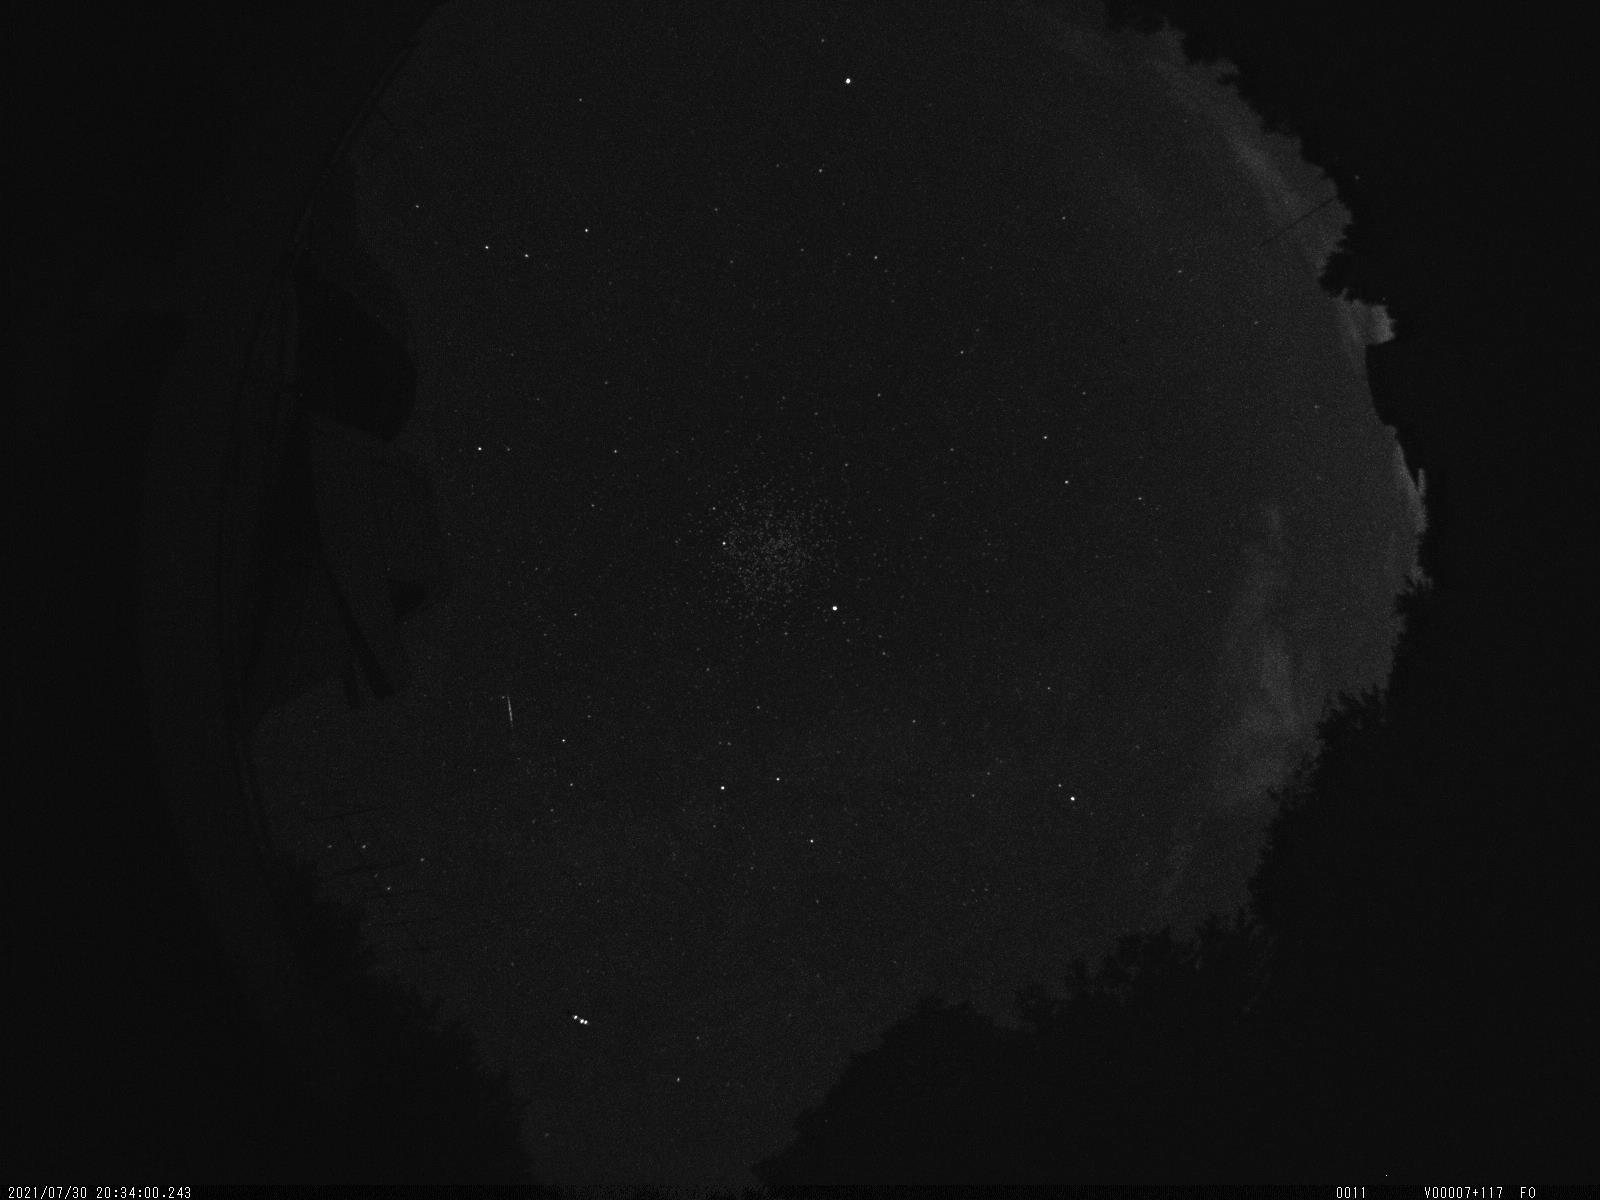Meteor: (502, 694, 520, 748)
